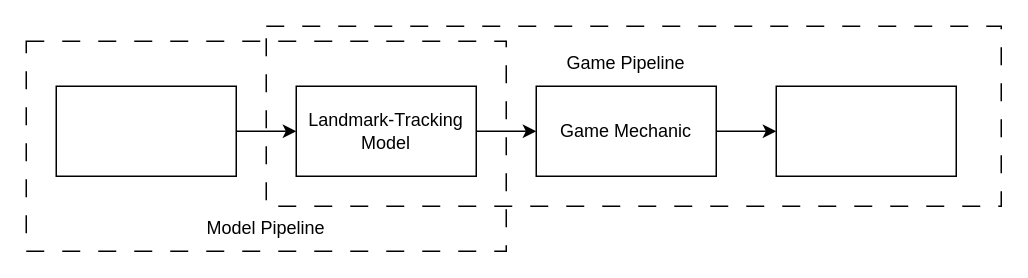
Some shapes in this 1028 by 278 pixel diagram are drawn without their labels. The centre of each missing label's shape, as x and y in pixels:
Game Output: (x=865, y=130)
Webcam Input: (x=145, y=130)
